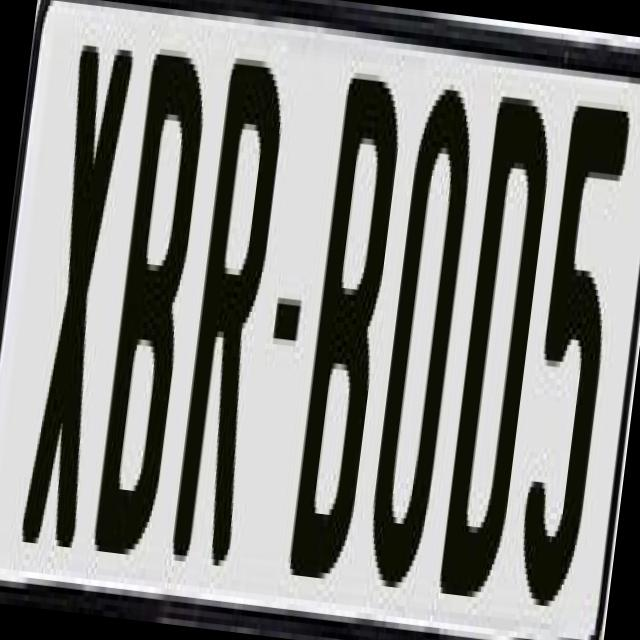0: (359, 80, 479, 601)
5: (512, 87, 634, 608)
B: (282, 77, 412, 611), (91, 41, 219, 552)
D: (438, 90, 558, 606)
R: (167, 39, 290, 555)
X: (17, 45, 139, 578)
